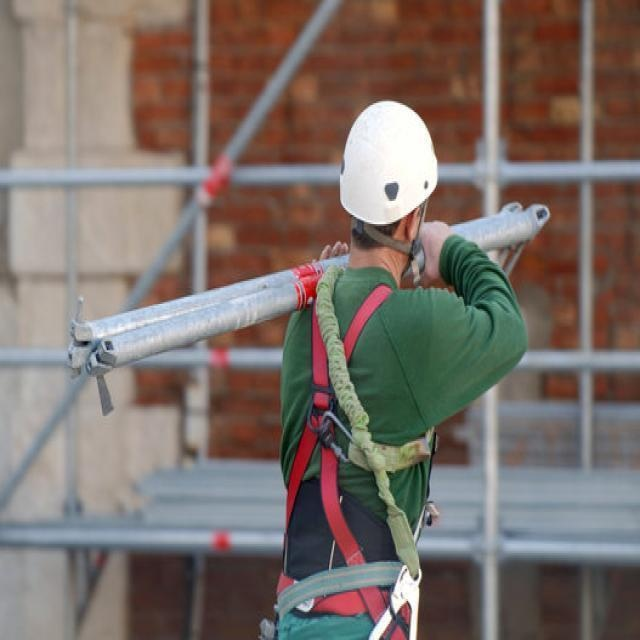Arnes_seguridad: (262, 277, 435, 640)
